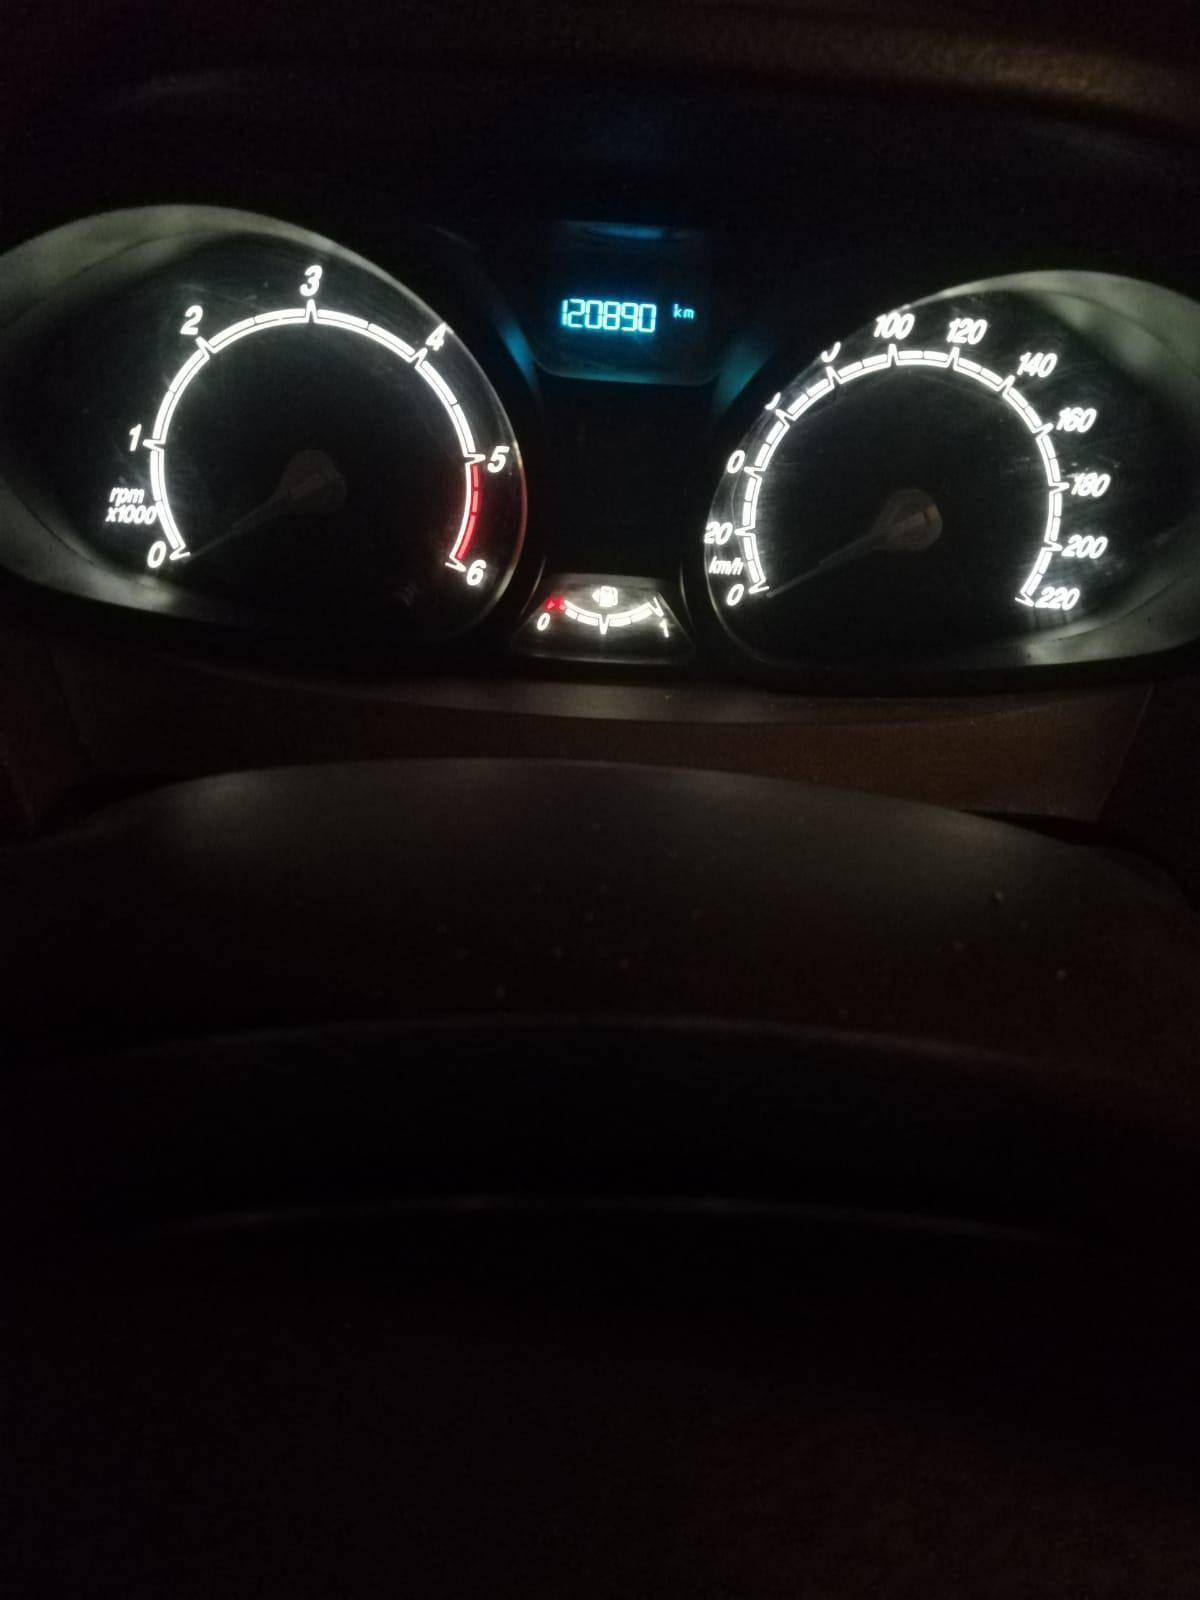0: (585, 299, 603, 330), (639, 301, 655, 334)
1: (560, 299, 568, 326)
2: (568, 297, 585, 328)
8: (603, 299, 620, 330)
9: (621, 300, 638, 331)
X: (673, 304, 683, 317), (683, 309, 695, 319)
odometer: (542, 281, 705, 359)
